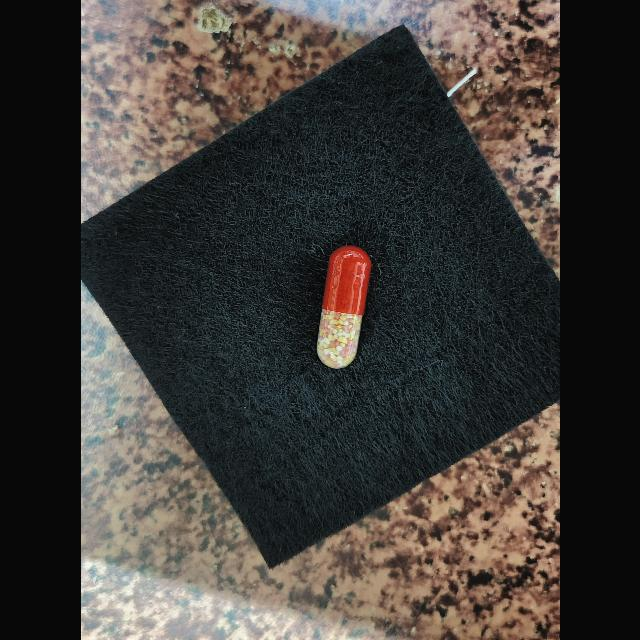Intact Capsule: (316, 246, 371, 369)
